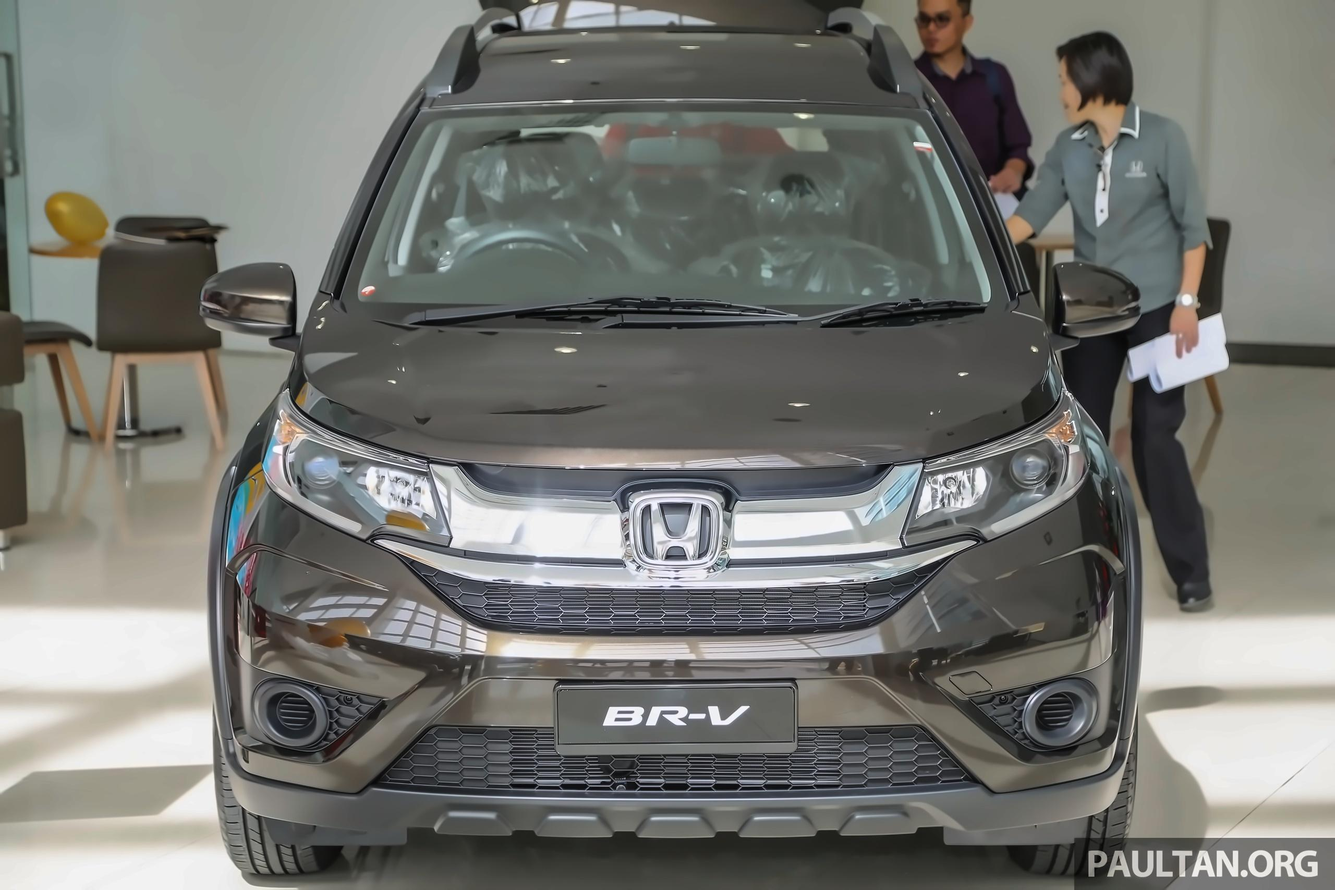Car hood: (289, 285, 1071, 477)
Front bumper: (204, 475, 1149, 854)
Headlight - -L-: (897, 381, 1100, 557)
Headlight - -R-: (243, 376, 460, 562)
Side mirror - -L-: (1029, 247, 1150, 357)
Side mirror - -R-: (184, 250, 306, 360)
